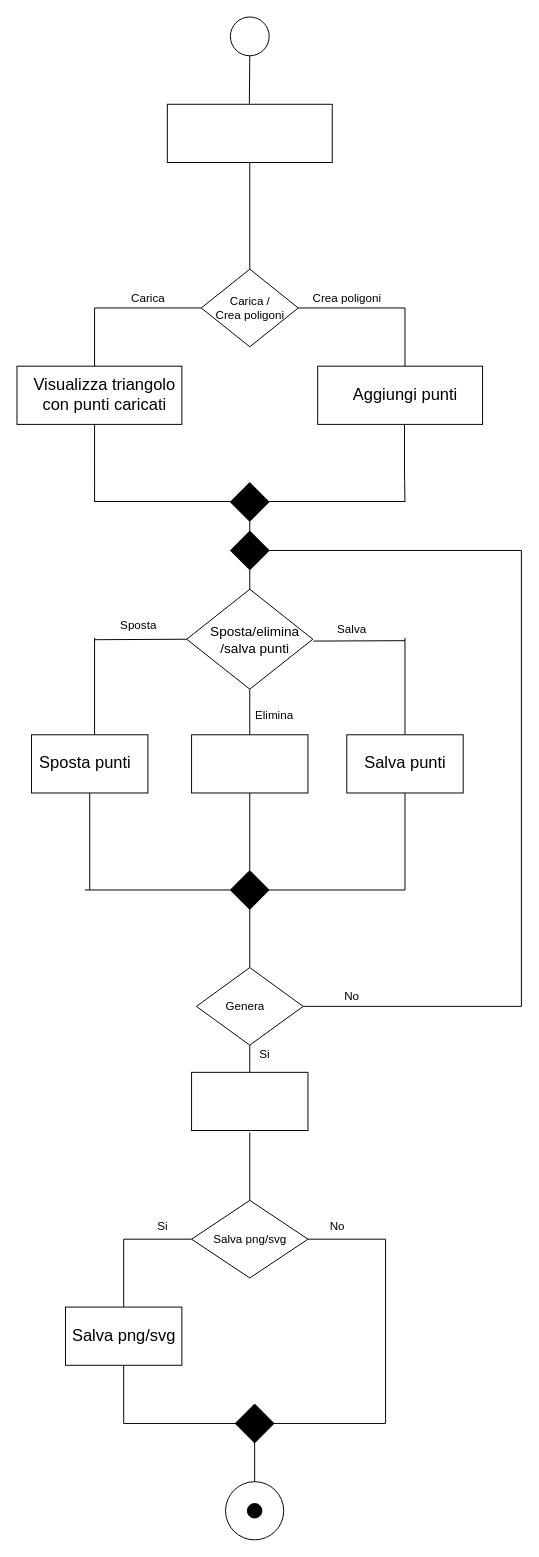
The diagram is 539 pixels wide and 1557 high, and some of its shapes have lost their labels. Each missing label, with the centre of its shape:
Elimina/reset punti: point (249, 763)
Genera fiocco di neve: point (249, 1101)
Visualizza triangolo: point (249, 132)
